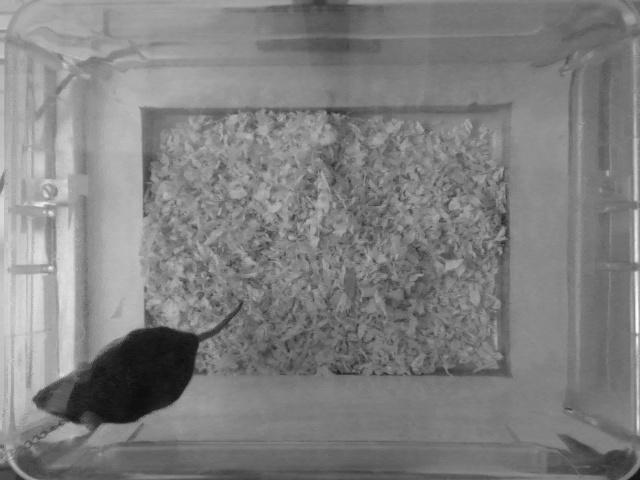mice: (27, 299, 246, 426)
